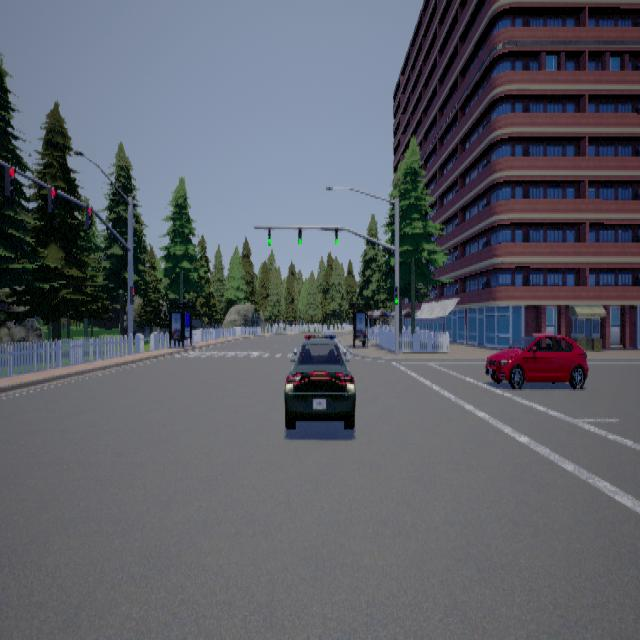green_light: (394, 285, 398, 303), (334, 227, 338, 244), (298, 227, 302, 244), (268, 226, 271, 245)
red_light: (4, 165, 15, 195), (47, 185, 56, 212), (84, 204, 92, 227), (129, 285, 135, 303)
vehicle: (283, 333, 355, 428), (484, 332, 588, 387)
